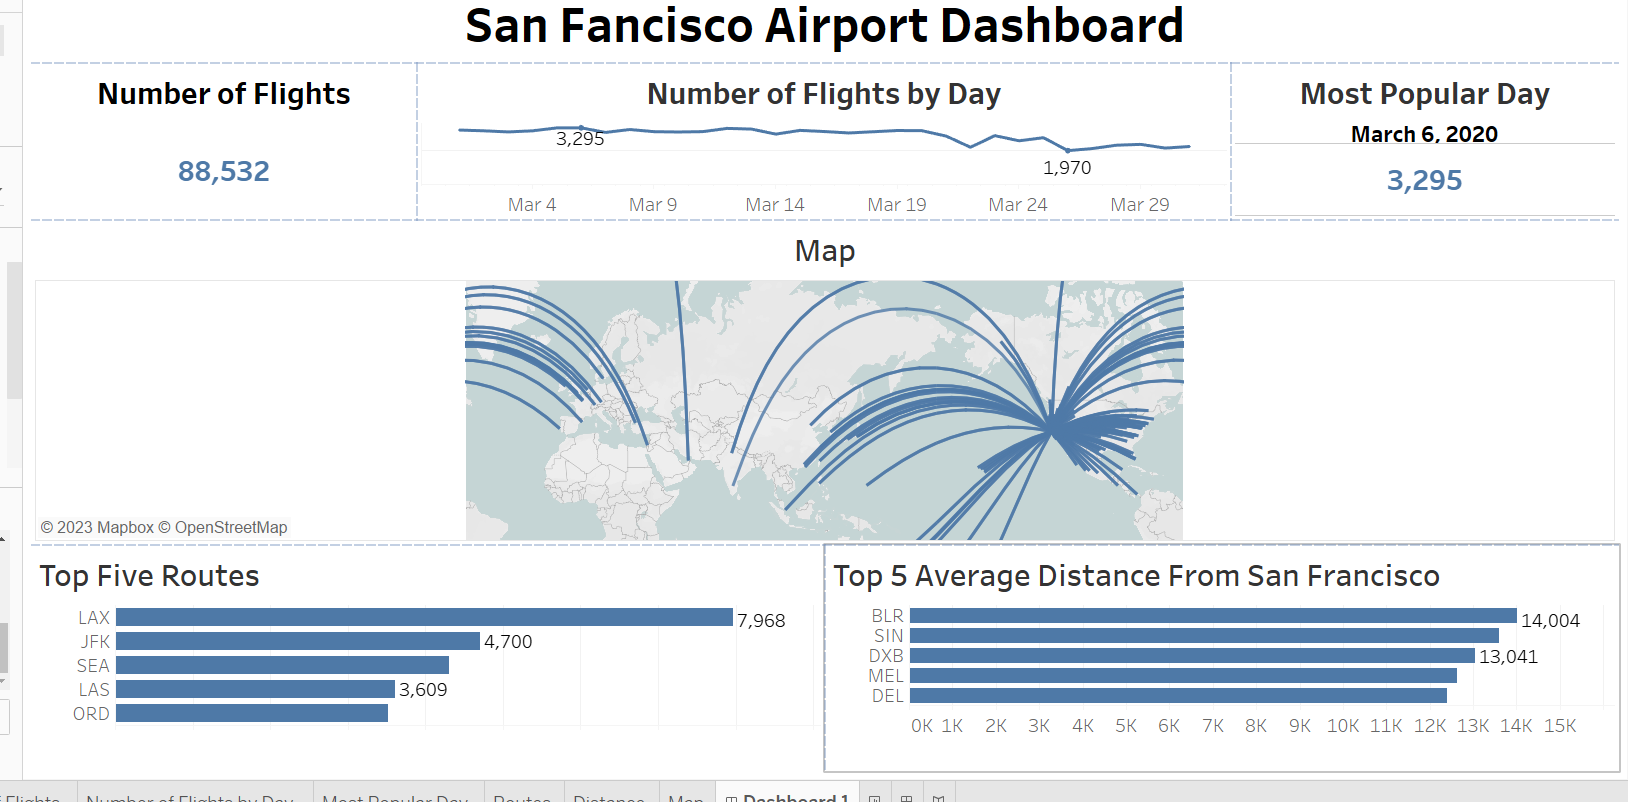

The page's visual inventory and layout, read from the dashboard file:
{"tool":"tableau","page":{"name":"Dashboard 1","canvas":[800,900],"ordinal":0},"visuals":[{"type":"text","box":[8,8,784,91.8]},{"type":"worksheet","title":"Number of Flights","mark":"Automatic","box":[8,99.8,190.4,175.2]},{"type":"worksheet","title":"Number of Flights by Day","mark":"Automatic","rows":["Calculation_906067984632528898"],"cols":["Date"],"box":[198.4,99.8,401.9,175.2]},{"type":"worksheet","title":"Most Popular Day","mark":"Automatic","cols":["Date"],"box":[600.3,99.8,191.7,175.2]},{"type":"worksheet","title":"Map","mark":"Multipolygon","box":[8,275,784,364]},{"type":"worksheet","title":"Routes","mark":"Automatic","rows":["Calculation_1381197747909562368"],"cols":["Calculation_906067984632528898"],"box":[8,639,392,253]},{"type":"worksheet","title":"Distance","mark":"Automatic","rows":["Calculation_1381197747909562368"],"cols":["Calculation_1381197747910742019"],"box":[400,639,392,253]}]}

Visuals, with their boxes on the page's 800x900 design canvas (x1, y1, x2, y2). These are canvas units, not pixel positions in the 1628x802 screenshot, which may show the page scaled, cropped or inside an application window:
text: BBox(8, 8, 792, 100)
"Number of Flights" worksheet: BBox(8, 100, 198, 275)
"Number of Flights by Day" worksheet: BBox(198, 100, 600, 275)
"Most Popular Day" worksheet: BBox(600, 100, 792, 275)
"Map" worksheet (Multipolygon marks): BBox(8, 275, 792, 639)
"Routes" worksheet: BBox(8, 639, 400, 892)
"Distance" worksheet: BBox(400, 639, 792, 892)
